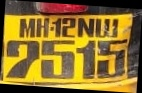character: (40, 39, 75, 80), (5, 40, 39, 79), (97, 39, 126, 79), (76, 40, 96, 80), (95, 18, 118, 38), (18, 17, 36, 38), (77, 16, 94, 37), (61, 17, 76, 37), (36, 17, 49, 38), (51, 17, 61, 38)
